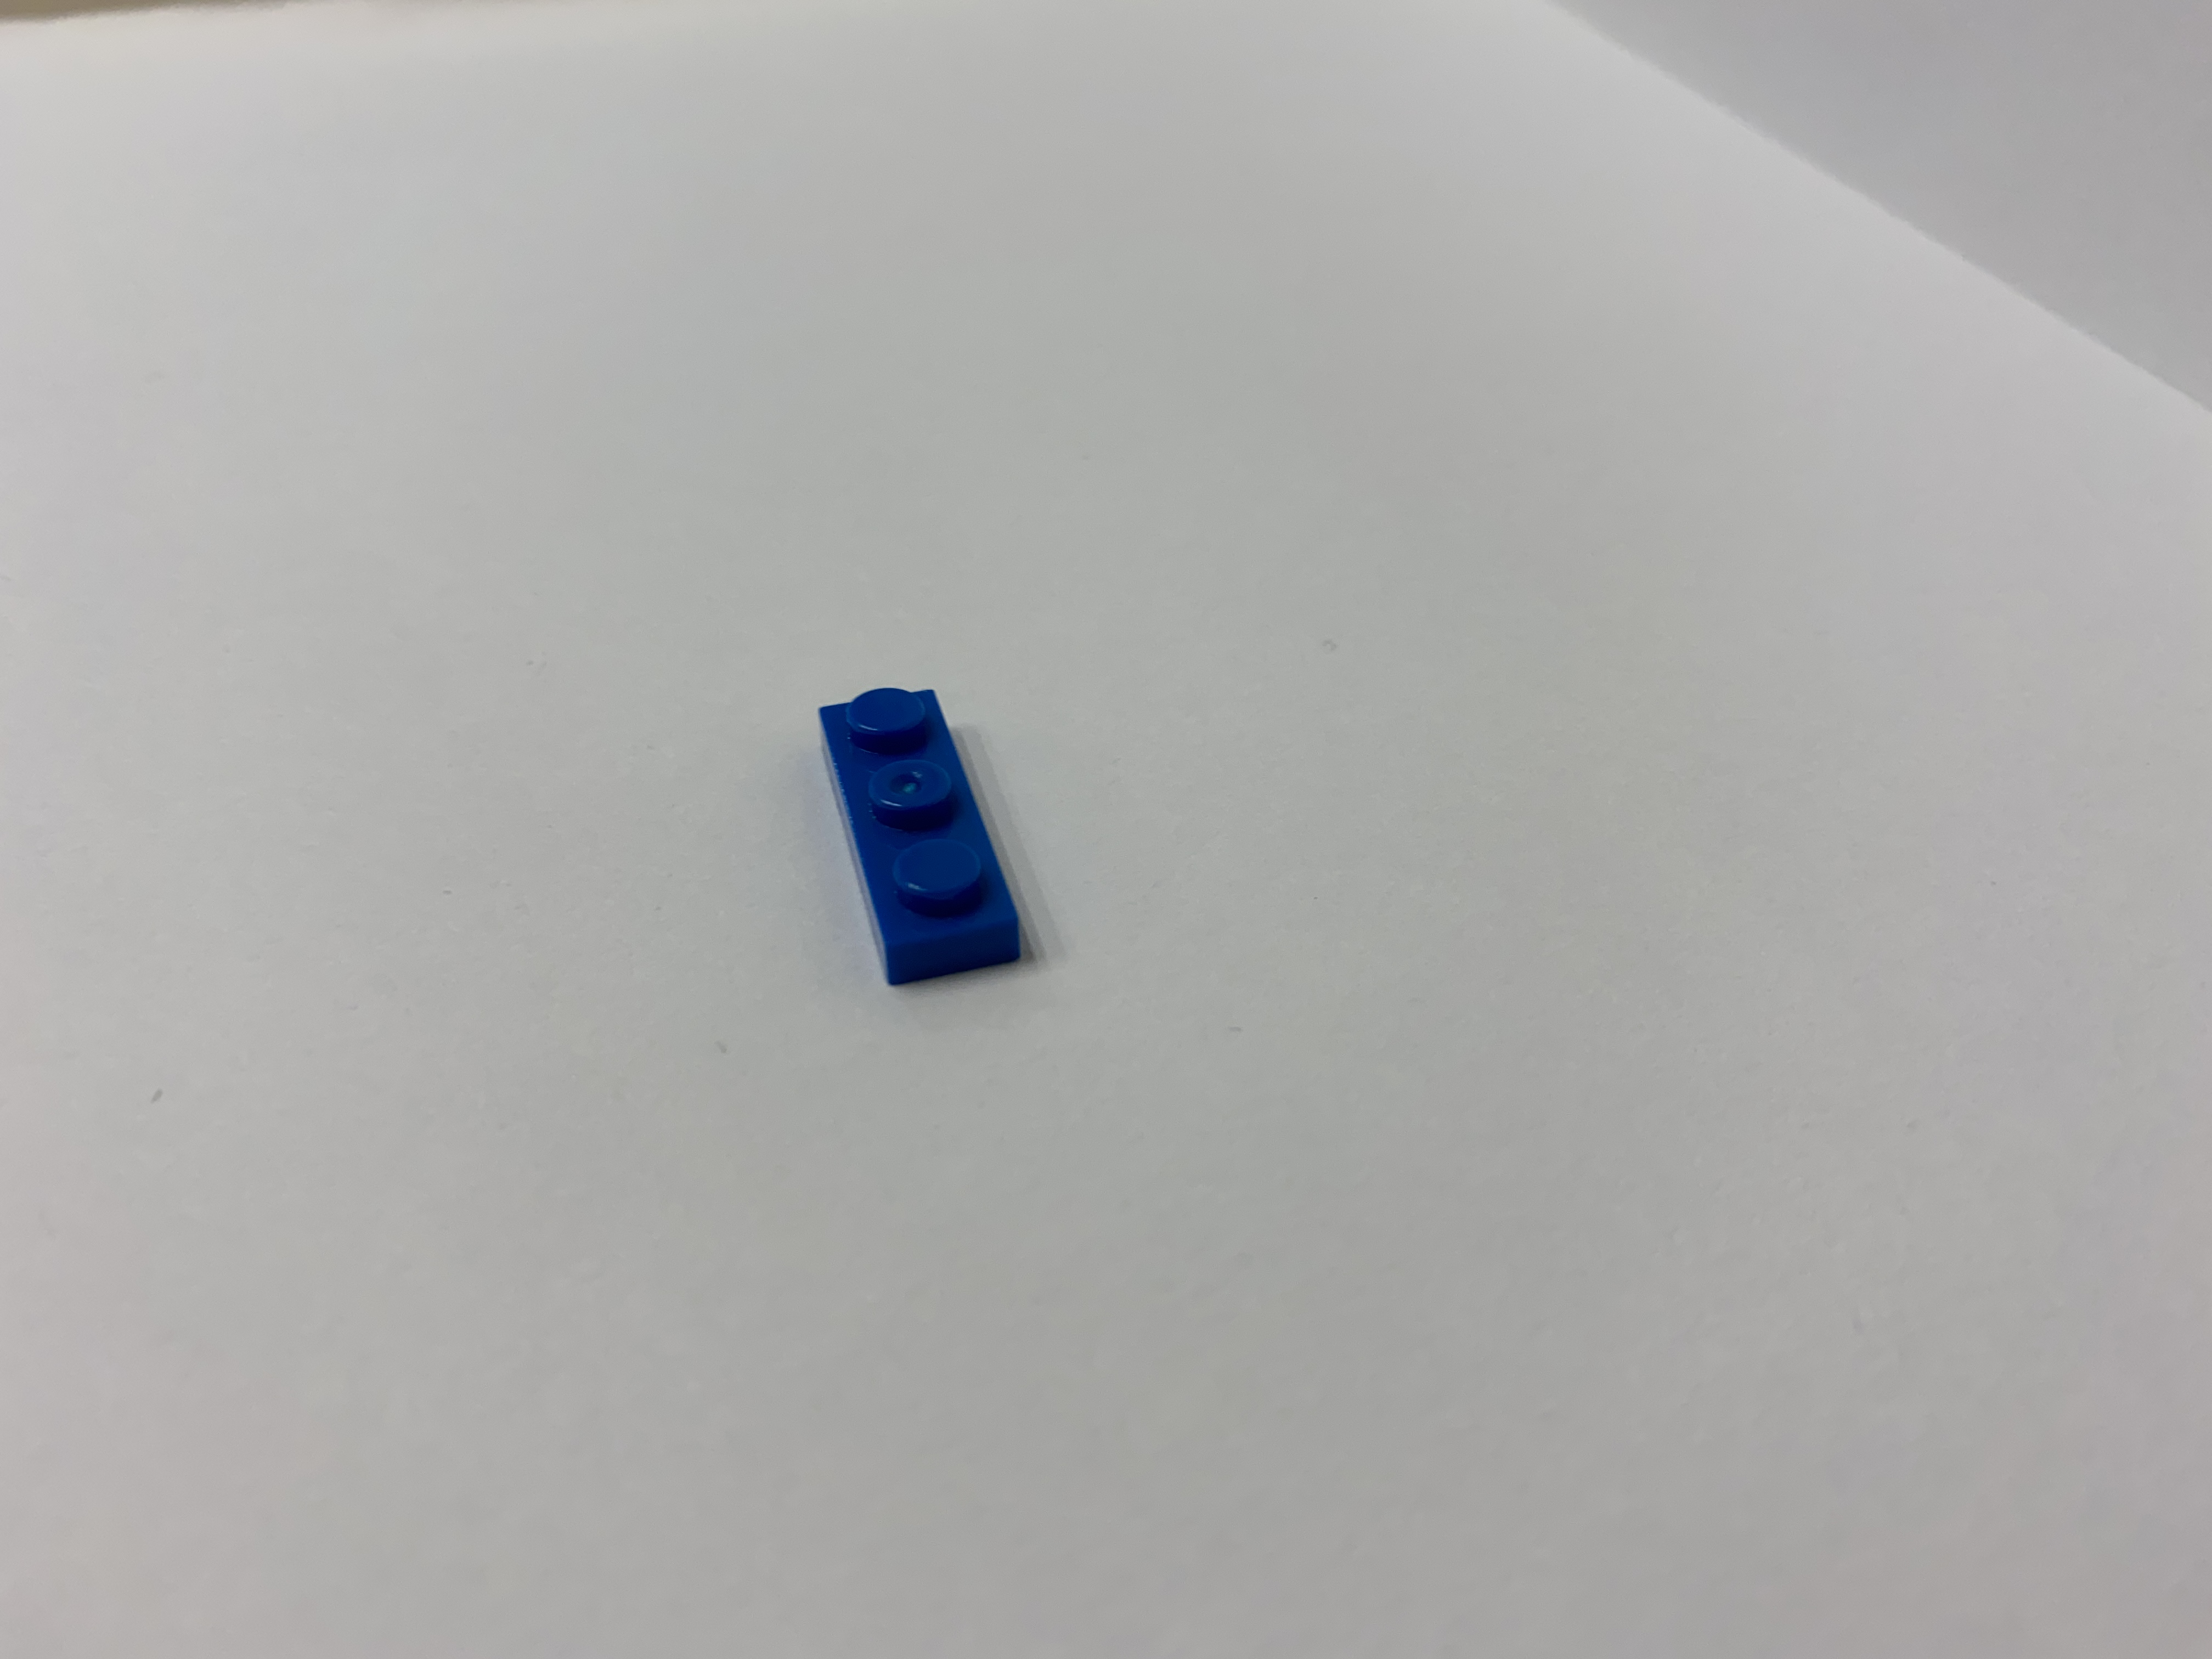car: (784, 678, 1057, 1004)
